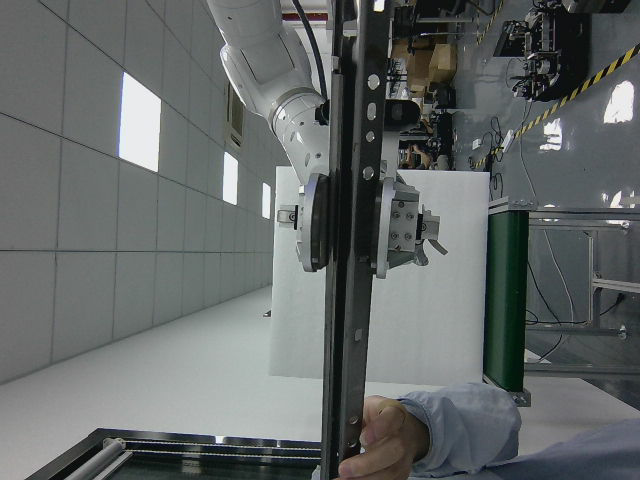right: (318, 4, 387, 394)
